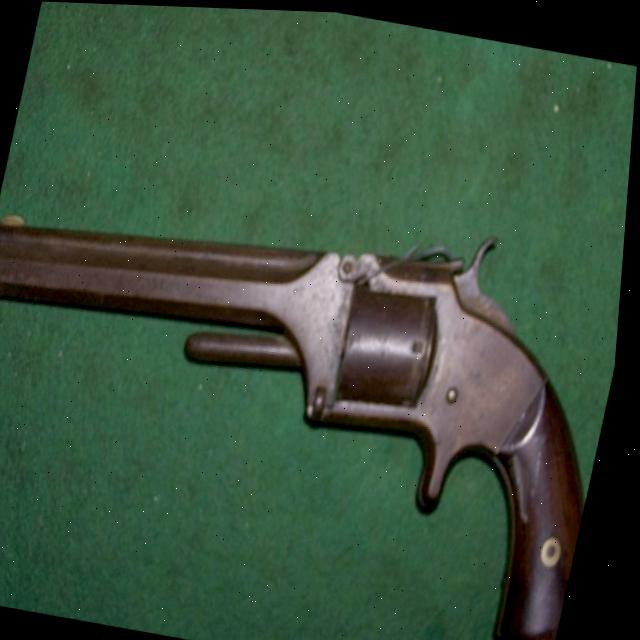pistol: (0, 167, 630, 640)
